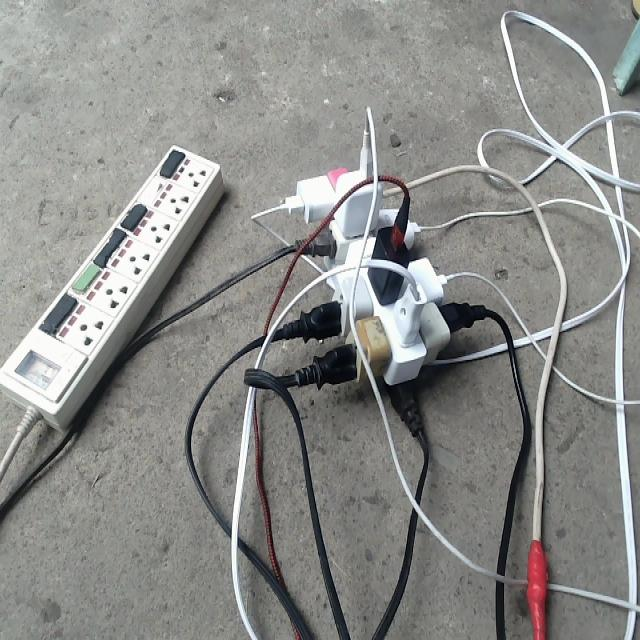-: (274, 132, 487, 440)
